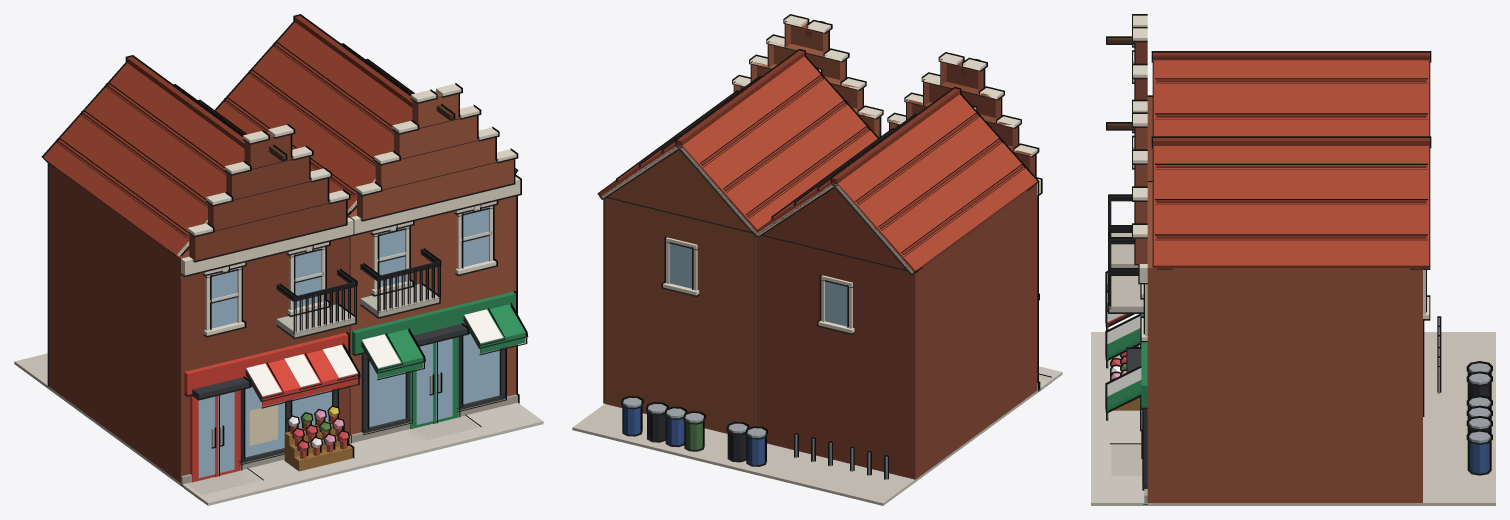
File: Blok_duz_2k_5.fbx
The picture shows the model from 3 angles, left to right: view 1: azimuth 30°, elevation 25°; view 2: azimuth 150°, elevation 25°; view 3: azimuth 270°, elevation 25°; orthographic projection. The views are drawn at different scales.
Parts seen in each view (by area): view 1: Blok_duz_2k_5; view 2: Blok_duz_2k_5; view 3: Blok_duz_2k_5.
Part boxes in pixels (x1,y1,x2,y2): Blok_duz_2k_5: (14, 14, 543, 505); Blok_duz_2k_5: (572, 14, 1062, 505); Blok_duz_2k_5: (1091, 14, 1495, 505).
Size of the model in its own units: 10.26 by 9.66 by 10.
